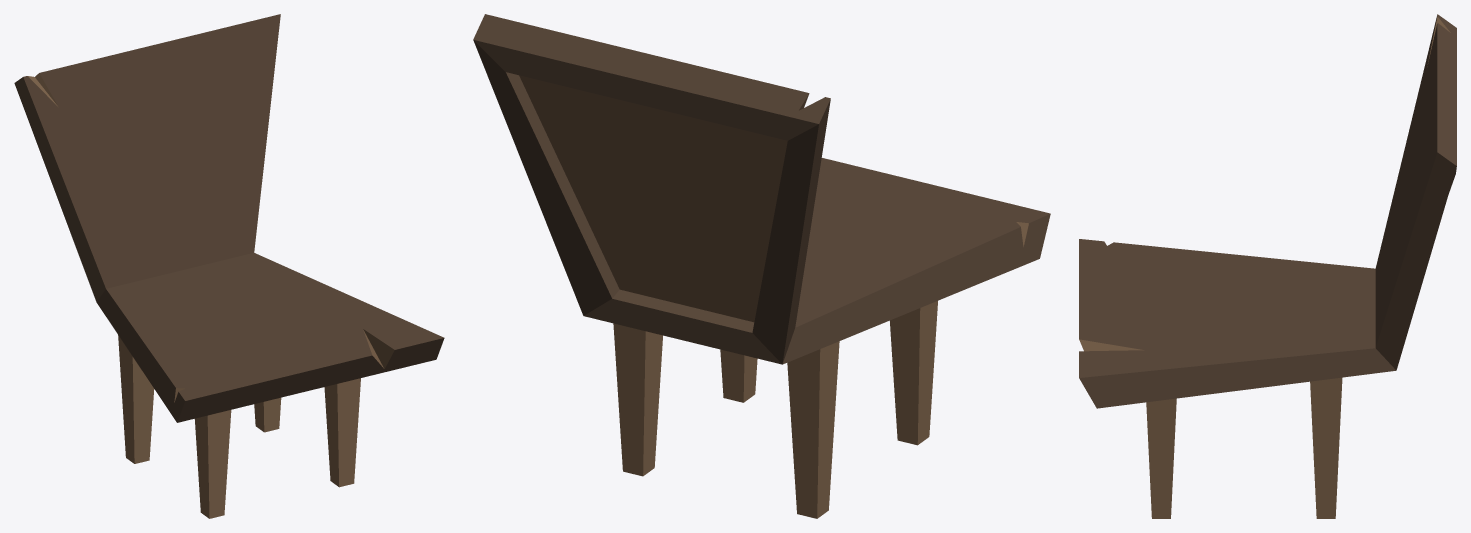
The model's file is Chair_2_Brown.fbx.
3 renders of one model, left to right at view 1: azimuth 30°, elevation 25°; view 2: azimuth 150°, elevation 25°; view 3: azimuth 270°, elevation 25°, orthographic. The views are drawn at different scales.
Visible parts, largest first — view 1: Chair_2_Brown_Part_1, Chair_2_Brown_Part_2; view 2: Chair_2_Brown_Part_1, Chair_2_Brown_Part_2; view 3: Chair_2_Brown_Part_1, Chair_2_Brown_Part_2.
Boxes of the visible parts, x1=… form: Chair_2_Brown_Part_1: x1=14, y1=14, x2=444, y2=422; Chair_2_Brown_Part_2: x1=28, y1=73, x2=394, y2=518; Chair_2_Brown_Part_1: x1=473, y1=14, x2=1050, y2=364; Chair_2_Brown_Part_2: x1=519, y1=75, x2=1028, y2=518; Chair_2_Brown_Part_1: x1=1079, y1=14, x2=1456, y2=408; Chair_2_Brown_Part_2: x1=1079, y1=16, x2=1450, y2=518.
Size of the model in its own units: 60 by 79.77 by 68.81.
